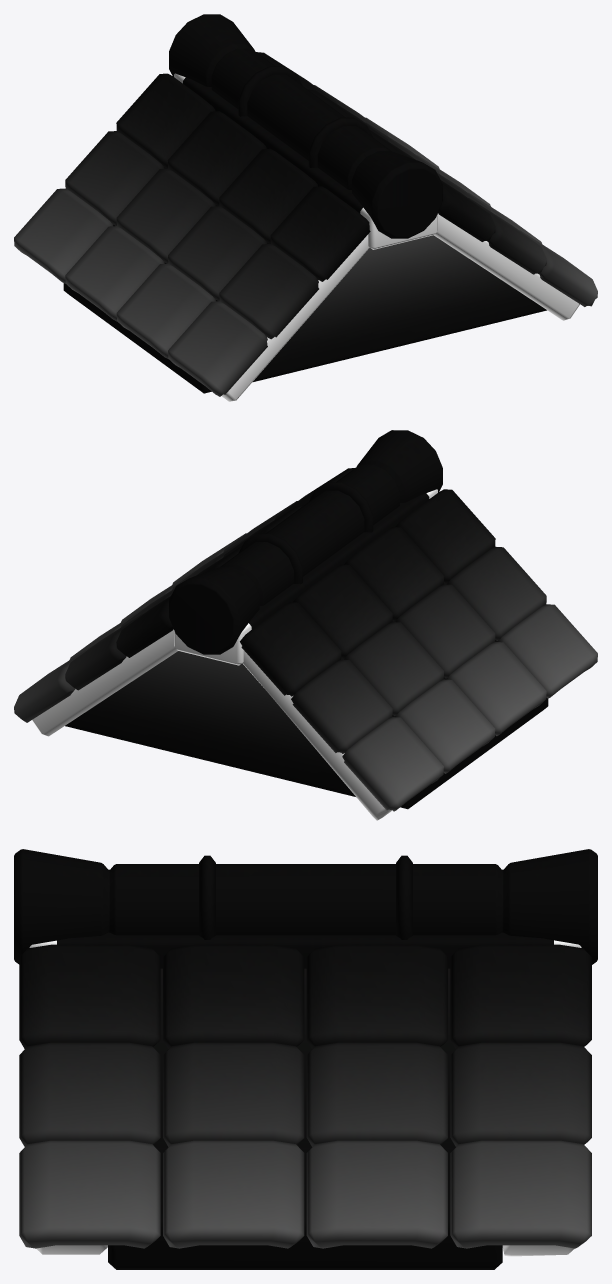
The model's file is SM_Wood_Roof_07.fbx.
3 views of the same model, one above another, from view 1: azimuth 30°, elevation 25°; view 2: azimuth 150°, elevation 25°; view 3: azimuth 270°, elevation 25° (orthographic). The views are drawn at different scales.
Visible parts, largest first — view 1: SM_Wood_Roof_07; view 2: SM_Wood_Roof_07; view 3: SM_Wood_Roof_07.
Part boxes in pixels (x1=…): SM_Wood_Roof_07: x1=14, y1=14, x2=597, y2=401; SM_Wood_Roof_07: x1=14, y1=430, x2=597, y2=820; SM_Wood_Roof_07: x1=14, y1=849, x2=597, y2=1269.
Size of the model in its own units: 1.09 by 0.5681 by 1.
